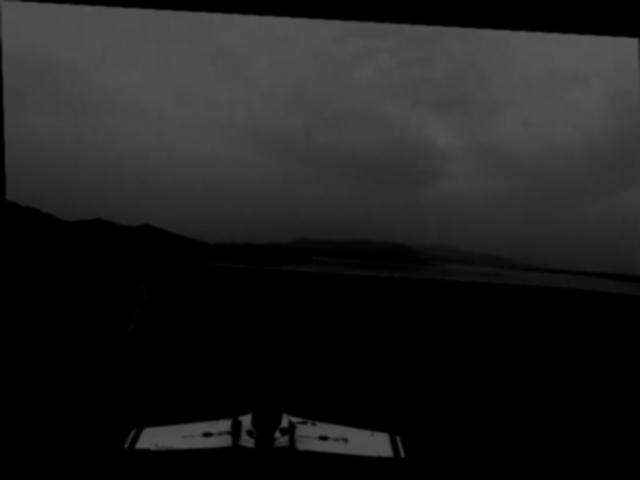hedef: (104, 383, 422, 474)
